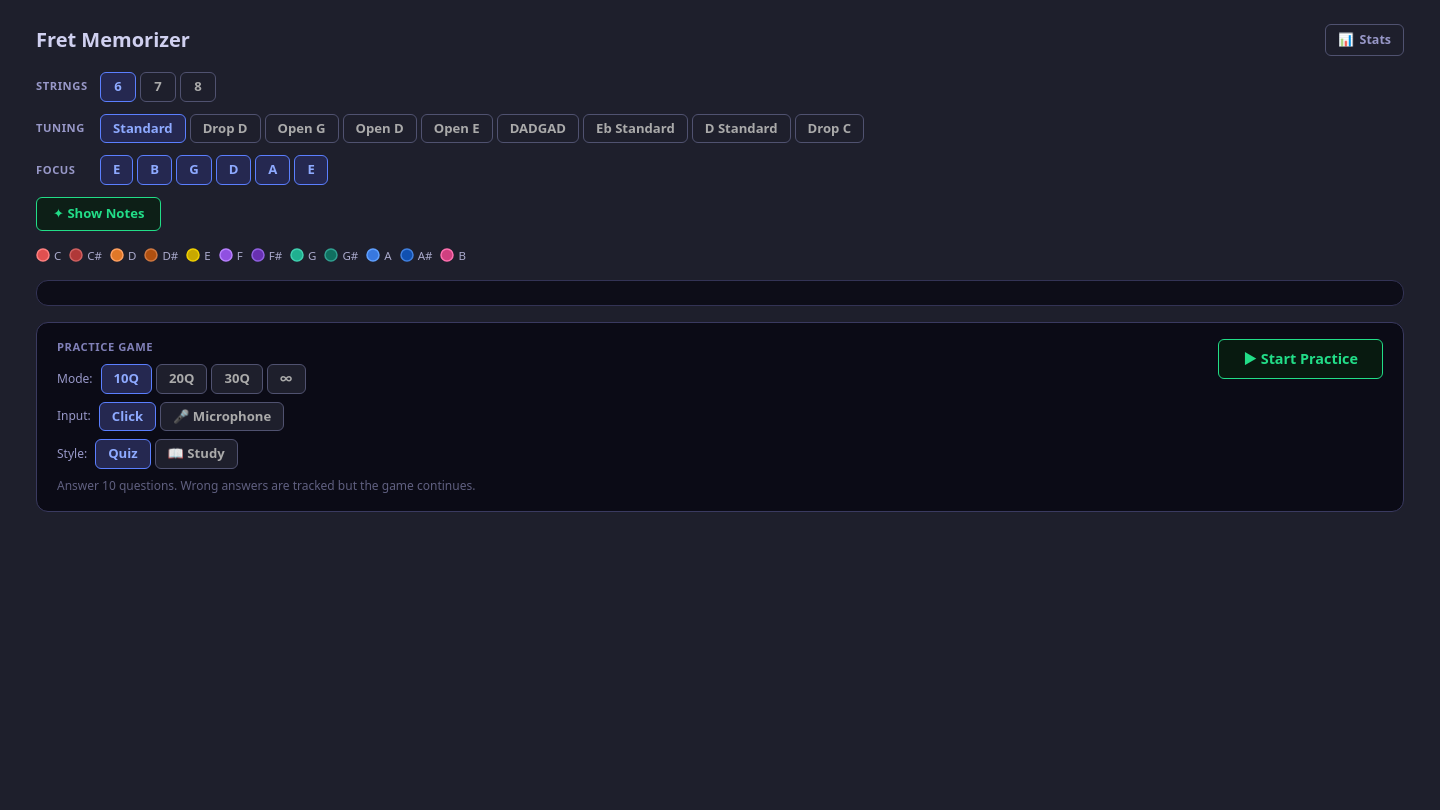
Scenario: SessionChart › shows "Complete a game to see your history" when sessions is empty
// Open stats panel
Click the button "📊 Stats".
click(1364, 40)  # box [1325,24,1404,56]
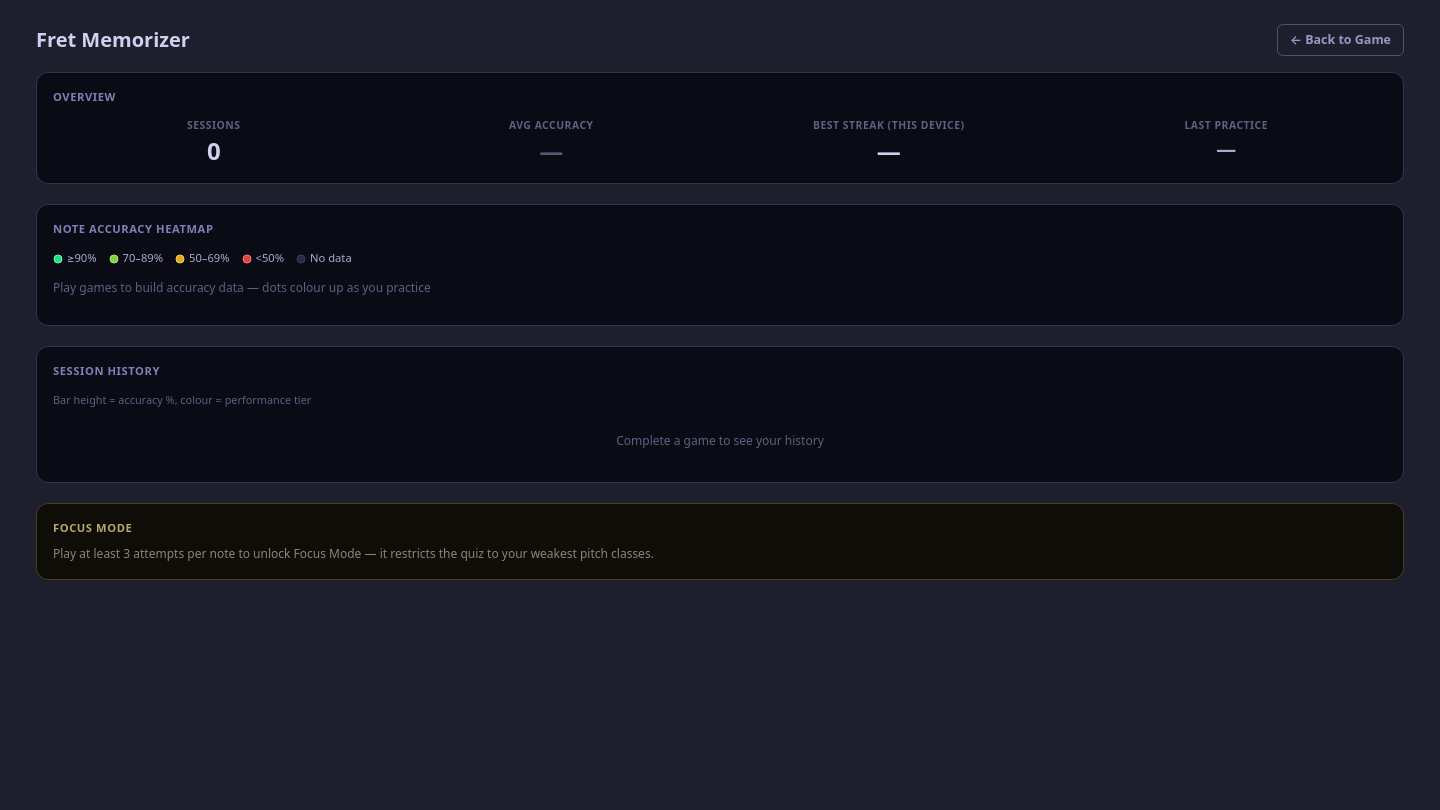
Check: the text "Complete a game to see your history" is shown, box [616,432,824,449]
